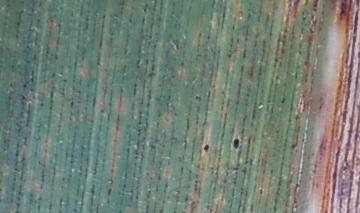tarspot: (231, 137, 241, 149), (279, 95, 286, 105), (289, 141, 297, 149), (203, 143, 210, 152), (258, 187, 264, 195), (313, 1, 318, 9)
